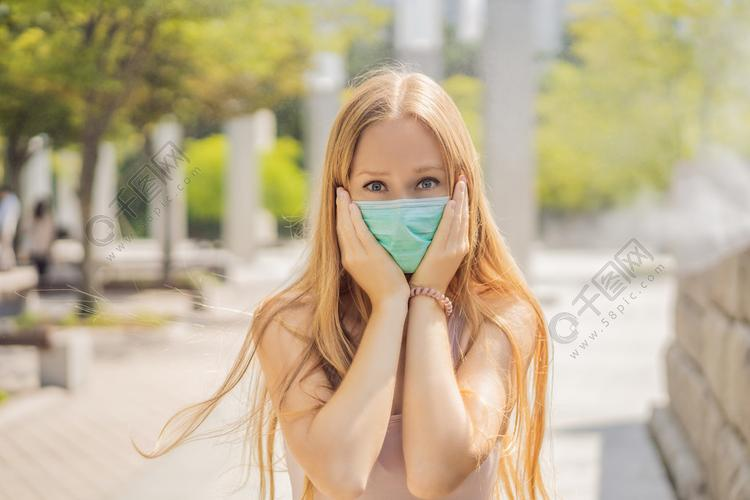mask: (345, 120, 457, 278)
